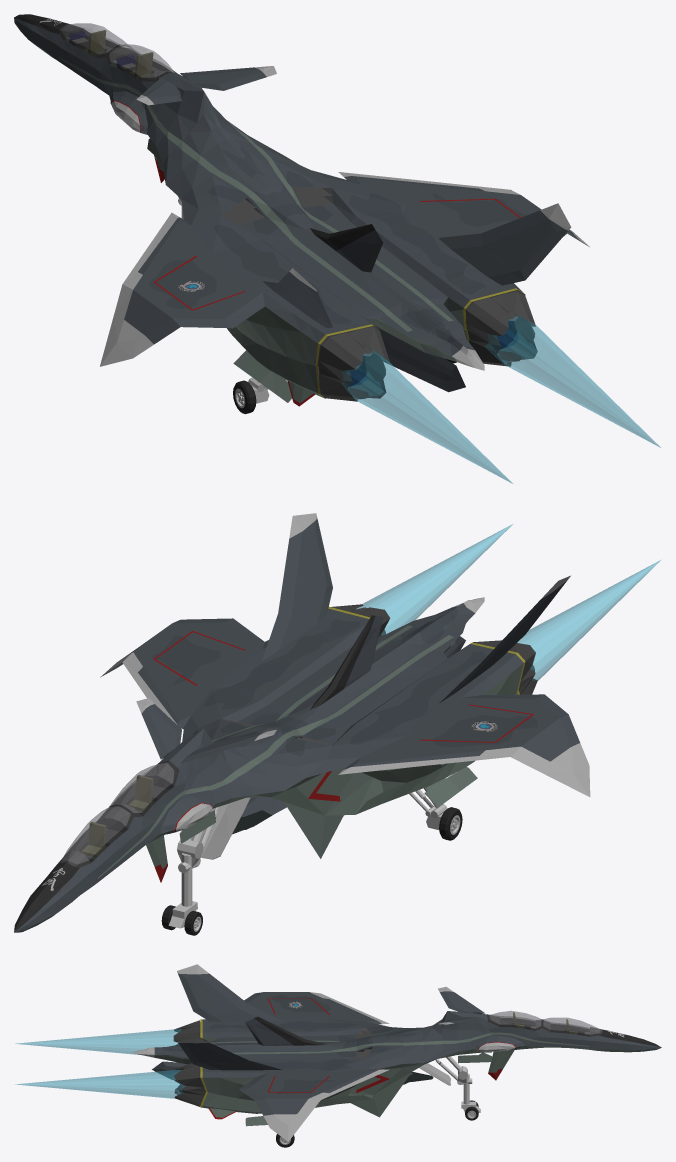
File: FRR31.obj
3 views of the same model, one above another, from view 1: azimuth 30°, elevation 25°; view 2: azimuth 150°, elevation 25°; view 3: azimuth 270°, elevation 25° (orthographic). The views are drawn at different scales.
Parts seen in each view (by area): view 1: ShapeIndexedFaceSet_ShapeIndexedFaceSet.001, ShapeIndexedFaceSet.001_ShapeIndexedFaceSet.002, ShapeIndexedFaceSet.003_ShapeIndexedFaceSet.004, ShapeIndexedFaceSet.083_ShapeIndexedFaceSet.084, ShapeIndexedFaceSet.082_ShapeIndexedFaceSet.083, ShapeIndexedFaceSet.028_ShapeIndexedFaceSet.029, ShapeIndexedFaceSet.005_ShapeIndexedFaceSet.006, ShapeIndexedFaceSet.024_ShapeIndexedFaceSet.025, ShapeIndexedFaceSet.084_ShapeIndexedFaceSet.085, ShapeIndexedFaceSet.031_ShapeIndexedFaceSet.032, ShapeIndexedFaceSet.068_ShapeIndexedFaceSet.069, ShapeIndexedFaceSet.002_ShapeIndexedFaceSet.003 (+13 smaller); view 2: ShapeIndexedFaceSet_ShapeIndexedFaceSet.001, ShapeIndexedFaceSet.003_ShapeIndexedFaceSet.004, ShapeIndexedFaceSet.001_ShapeIndexedFaceSet.002, ShapeIndexedFaceSet.028_ShapeIndexedFaceSet.029, ShapeIndexedFaceSet.082_ShapeIndexedFaceSet.083, ShapeIndexedFaceSet.083_ShapeIndexedFaceSet.084, ShapeIndexedFaceSet.005_ShapeIndexedFaceSet.006, ShapeIndexedFaceSet.002_ShapeIndexedFaceSet.003, ShapeIndexedFaceSet.058_ShapeIndexedFaceSet.059, ShapeIndexedFaceSet.066_ShapeIndexedFaceSet.067, ShapeIndexedFaceSet.068_ShapeIndexedFaceSet.069, ShapeIndexedFaceSet.084_ShapeIndexedFaceSet.085 (+13 smaller); view 3: ShapeIndexedFaceSet_ShapeIndexedFaceSet.001, ShapeIndexedFaceSet.003_ShapeIndexedFaceSet.004, ShapeIndexedFaceSet.001_ShapeIndexedFaceSet.002, ShapeIndexedFaceSet.028_ShapeIndexedFaceSet.029, ShapeIndexedFaceSet.083_ShapeIndexedFaceSet.084, ShapeIndexedFaceSet.082_ShapeIndexedFaceSet.083, ShapeIndexedFaceSet.005_ShapeIndexedFaceSet.006, ShapeIndexedFaceSet.002_ShapeIndexedFaceSet.003, ShapeIndexedFaceSet.030_ShapeIndexedFaceSet.031, ShapeIndexedFaceSet.066_ShapeIndexedFaceSet.067, ShapeIndexedFaceSet.068_ShapeIndexedFaceSet.069, ShapeIndexedFaceSet.058_ShapeIndexedFaceSet.059 (+12 smaller).
Boxes of the visible parts, box(x1,y1,x2,y2) form: ShapeIndexedFaceSet_ShapeIndexedFaceSet.001: box(14, 17, 578, 355); ShapeIndexedFaceSet.001_ShapeIndexedFaceSet.002: box(148, 146, 526, 343); ShapeIndexedFaceSet.003_ShapeIndexedFaceSet.004: box(30, 37, 587, 402); ShapeIndexedFaceSet.083_ShapeIndexedFaceSet.084: box(484, 315, 660, 447); ShapeIndexedFaceSet.082_ShapeIndexedFaceSet.083: box(341, 350, 512, 483); ShapeIndexedFaceSet.028_ShapeIndexedFaceSet.029: box(262, 210, 567, 328); ShapeIndexedFaceSet.005_ShapeIndexedFaceSet.006: box(100, 101, 589, 370); ShapeIndexedFaceSet.024_ShapeIndexedFaceSet.025: box(172, 292, 262, 328); ShapeIndexedFaceSet.084_ShapeIndexedFaceSet.085: box(239, 205, 375, 252); ShapeIndexedFaceSet.031_ShapeIndexedFaceSet.032: box(499, 223, 565, 280); ShapeIndexedFaceSet.068_ShapeIndexedFaceSet.069: box(109, 44, 173, 77); ShapeIndexedFaceSet.002_ShapeIndexedFaceSet.003: box(14, 14, 375, 291); ShapeIndexedFaceSet_ShapeIndexedFaceSet.001: box(14, 537, 580, 932); ShapeIndexedFaceSet.003_ShapeIndexedFaceSet.004: box(15, 616, 523, 932); ShapeIndexedFaceSet.001_ShapeIndexedFaceSet.002: box(132, 608, 537, 756); ShapeIndexedFaceSet.028_ShapeIndexedFaceSet.029: box(262, 518, 566, 703); ShapeIndexedFaceSet.082_ShapeIndexedFaceSet.083: box(517, 560, 660, 680); ShapeIndexedFaceSet.083_ShapeIndexedFaceSet.084: box(354, 524, 512, 635); ShapeIndexedFaceSet.005_ShapeIndexedFaceSet.006: box(100, 597, 590, 831); ShapeIndexedFaceSet.002_ShapeIndexedFaceSet.003: box(14, 615, 498, 932); ShapeIndexedFaceSet.058_ShapeIndexedFaceSet.059: box(59, 761, 178, 867); ShapeIndexedFaceSet.066_ShapeIndexedFaceSet.067: box(61, 806, 130, 864); ShapeIndexedFaceSet.068_ShapeIndexedFaceSet.069: box(110, 763, 173, 812); ShapeIndexedFaceSet.084_ShapeIndexedFaceSet.085: box(243, 690, 375, 735); ShapeIndexedFaceSet_ShapeIndexedFaceSet.001: box(154, 992, 661, 1115); ShapeIndexedFaceSet.003_ShapeIndexedFaceSet.004: box(154, 1027, 660, 1117); ShapeIndexedFaceSet.001_ShapeIndexedFaceSet.002: box(163, 994, 415, 1094); ShapeIndexedFaceSet.028_ShapeIndexedFaceSet.029: box(178, 973, 282, 1070); ShapeIndexedFaceSet.083_ShapeIndexedFaceSet.084: box(15, 1070, 185, 1098); ShapeIndexedFaceSet.082_ShapeIndexedFaceSet.083: box(15, 1029, 182, 1054); ShapeIndexedFaceSet.005_ShapeIndexedFaceSet.006: box(131, 1042, 515, 1141); ShapeIndexedFaceSet.002_ShapeIndexedFaceSet.003: box(254, 1001, 661, 1047); ShapeIndexedFaceSet.030_ShapeIndexedFaceSet.031: box(178, 974, 219, 1012); ShapeIndexedFaceSet.066_ShapeIndexedFaceSet.067: box(543, 1017, 600, 1034); ShapeIndexedFaceSet.068_ShapeIndexedFaceSet.069: box(489, 1010, 541, 1028); ShapeIndexedFaceSet.058_ShapeIndexedFaceSet.059: box(487, 1015, 602, 1036).
Bounding box in the file's own units: 134 × 54.31 × 271.
